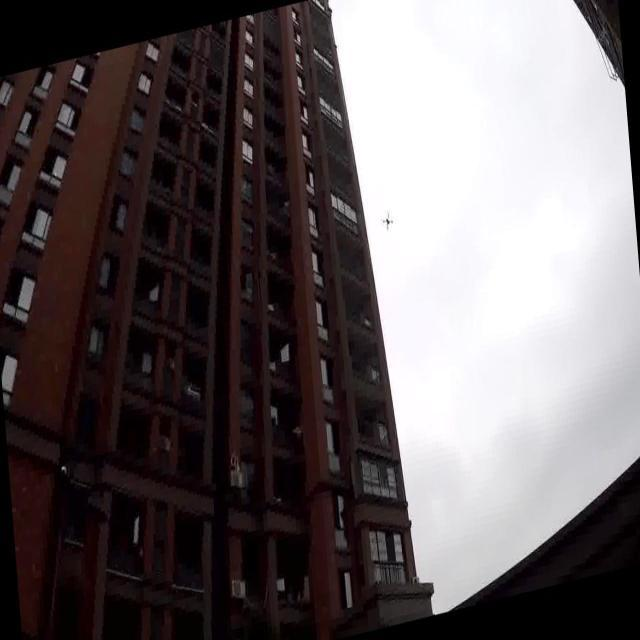drone: (379, 204, 396, 240)
